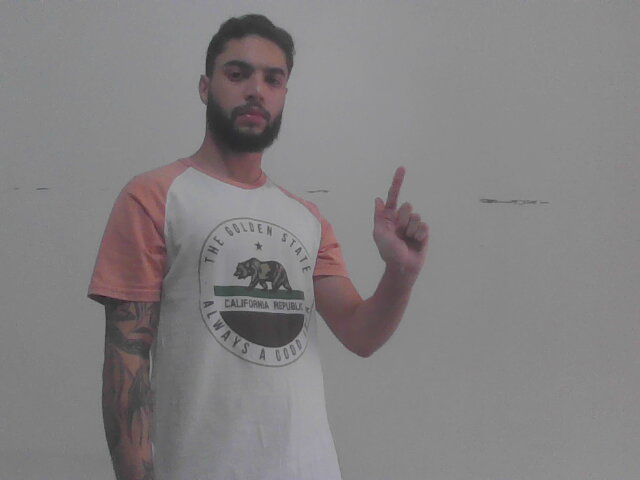g: (370, 161, 436, 280)
